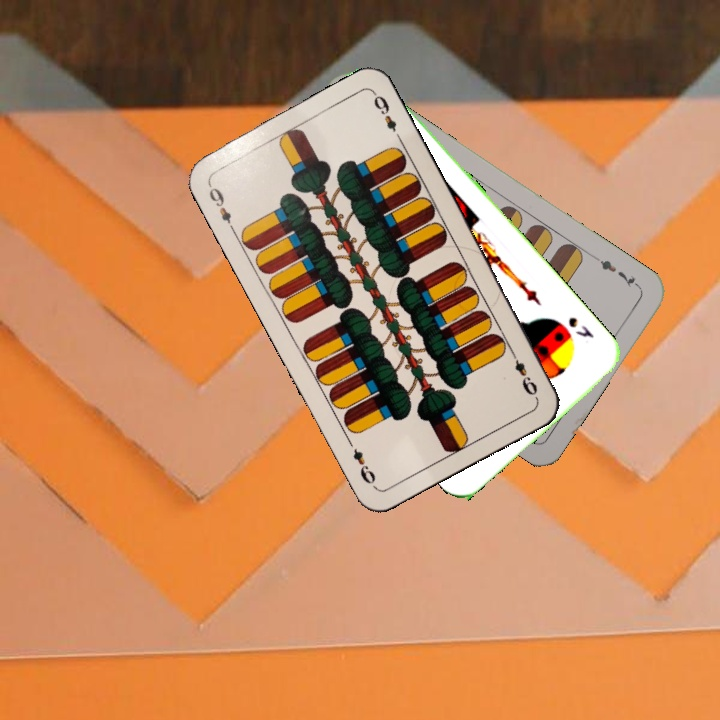E7: (591, 252, 643, 291)
E9: (506, 345, 541, 400), (204, 179, 238, 234)
SK: (564, 312, 597, 341)
